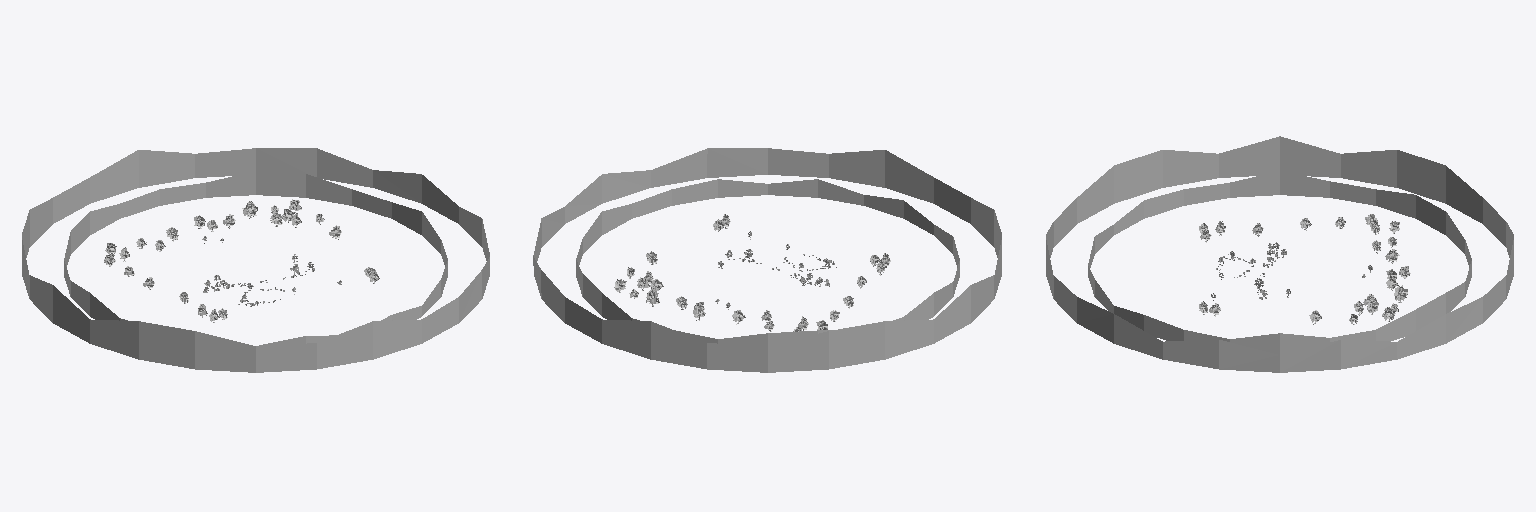
Rendered from plants.obj.
3 views of the same model, side by side, from view 1: azimuth 30°, elevation 25°; view 2: azimuth 150°, elevation 25°; view 3: azimuth 270°, elevation 25° (orthographic).
Visible parts, largest first — view 1: 白玉楼_植物_mesh_白玉楼_植物; view 2: 白玉楼_植物_mesh_白玉楼_植物; view 3: 白玉楼_植物_mesh_白玉楼_植物.
Part boxes in pixels (x1,y1,x2,y2): 白玉楼_植物_mesh_白玉楼_植物: (22,148,489,372); 白玉楼_植物_mesh_白玉楼_植物: (533,148,1001,372); 白玉楼_植物_mesh_白玉楼_植物: (1046,136,1513,372).
Bounding box in the file's own units: 254 × 24.59 × 254.